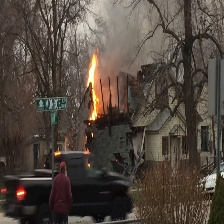fire: (84, 52, 102, 117)
